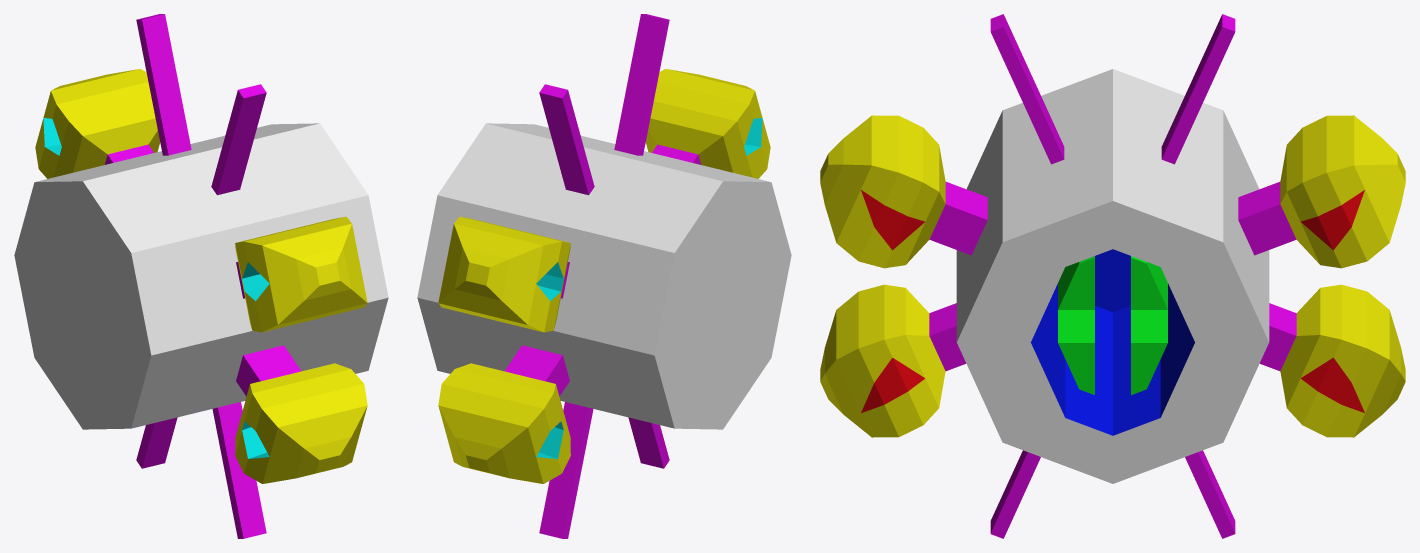
File: EnemyShipHoming.fbx
3 views of the same model, side by side, from view 1: azimuth 30°, elevation 25°; view 2: azimuth 150°, elevation 25°; view 3: azimuth 270°, elevation 25° (orthographic). The views are drawn at different scales.
Visible parts, largest first — view 1: Cylinder; view 2: Cylinder; view 3: Cylinder.
Part boxes in pixels (x1=…): Cylinder: x1=14, y1=14, x2=388, y2=538; Cylinder: x1=417, y1=14, x2=791, y2=538; Cylinder: x1=820, y1=14, x2=1405, y2=538.
Size of the model in its own units: 200 by 362 by 375.
